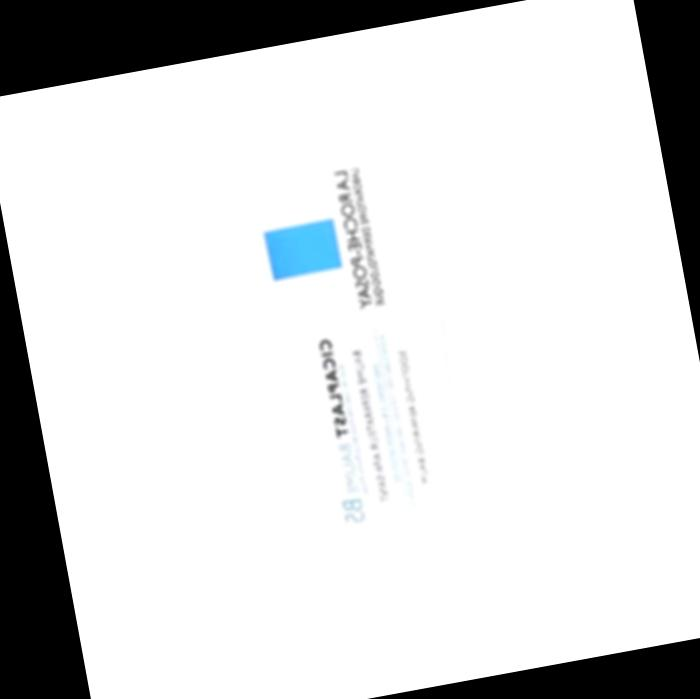cosmetic: (191, 79, 529, 667)
